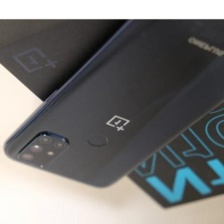book: (0, 0, 224, 214)
phone: (2, 0, 223, 194)
